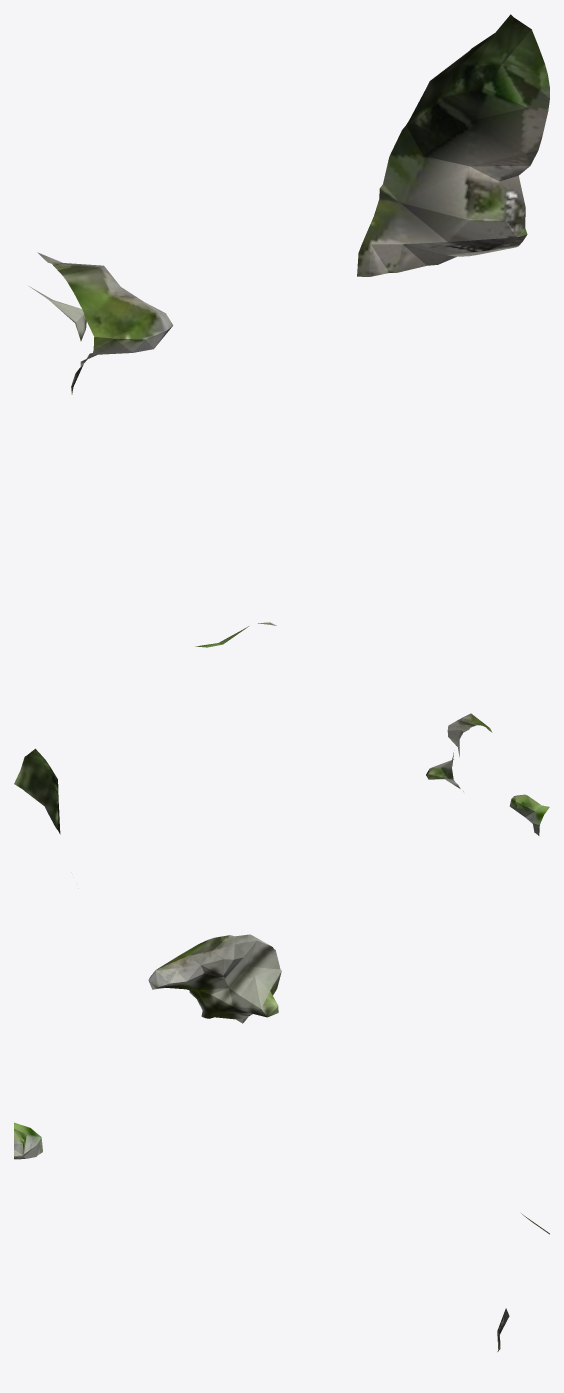
3 views of the same model, one above another, from view 1: azimuth 30°, elevation 25°; view 2: azimuth 150°, elevation 25°; view 3: azimuth 270°, elevation 25° (orthographic). The views are drawn at different scales.
Size of the model in its own units: 0.8373 by 0.3751 by 0.8373.
Materials: 1 (1 with a texture image).
